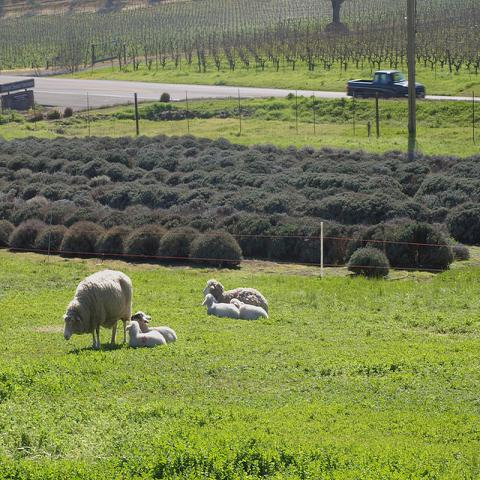truck: (347, 69, 426, 98)
